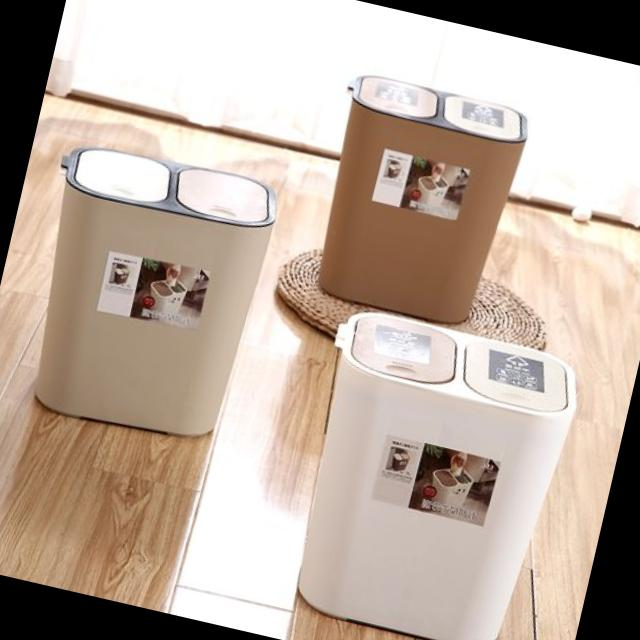dustbin: (269, 297, 592, 640), (4, 130, 293, 458), (293, 55, 540, 336)
